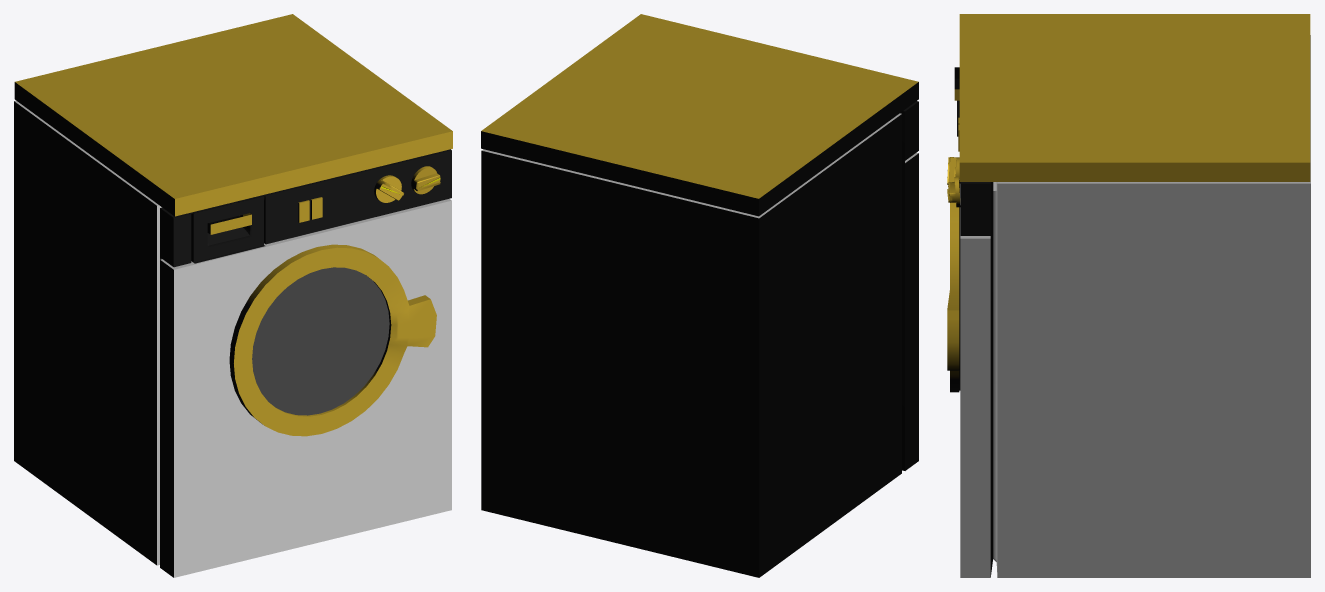
Rendered from Washing machine nog een test.fbx.
3 views of the same model, side by side, from view 1: azimuth 30°, elevation 25°; view 2: azimuth 150°, elevation 25°; view 3: azimuth 270°, elevation 25° (orthographic). The views are drawn at different scales.
Visible parts, largest first — view 1: met_deur; view 2: met_deur; view 3: met_deur.
Boxes of the visible parts, box(x1,y1,x2,y2) form: met_deur: box(14, 14, 452, 577); met_deur: box(481, 14, 918, 577); met_deur: box(947, 14, 1310, 577).
Size of the model in its own units: 64.61 by 84.03 by 66.66.
Materials: 1 (1 with a texture image).
